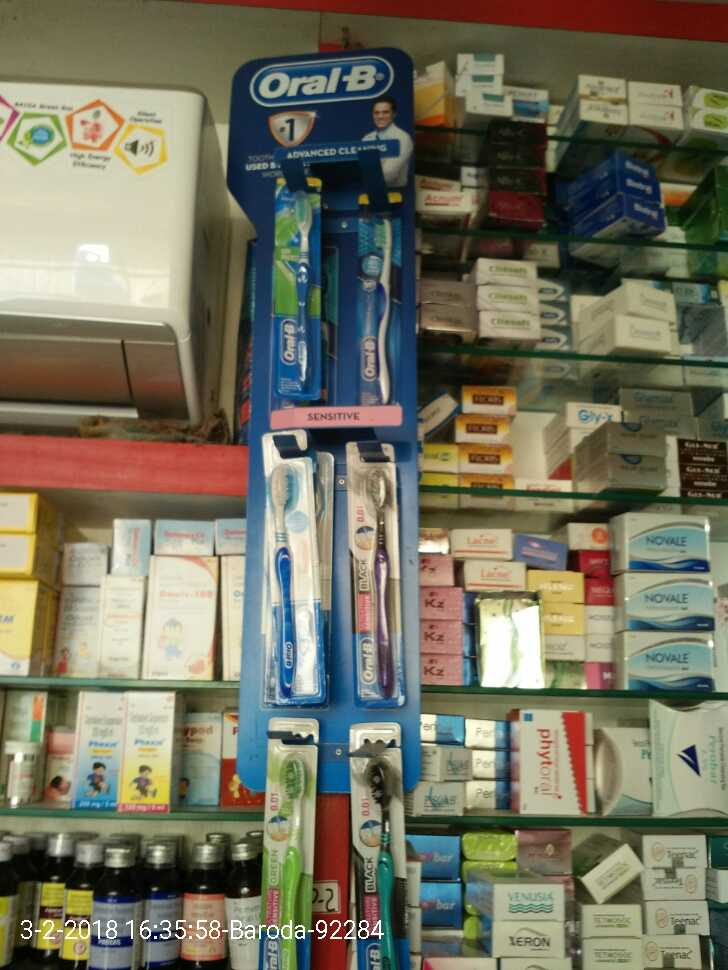oralb: (254, 455, 328, 709), (259, 178, 332, 413), (344, 467, 414, 710), (354, 748, 418, 960), (352, 198, 409, 403), (266, 728, 314, 970)
